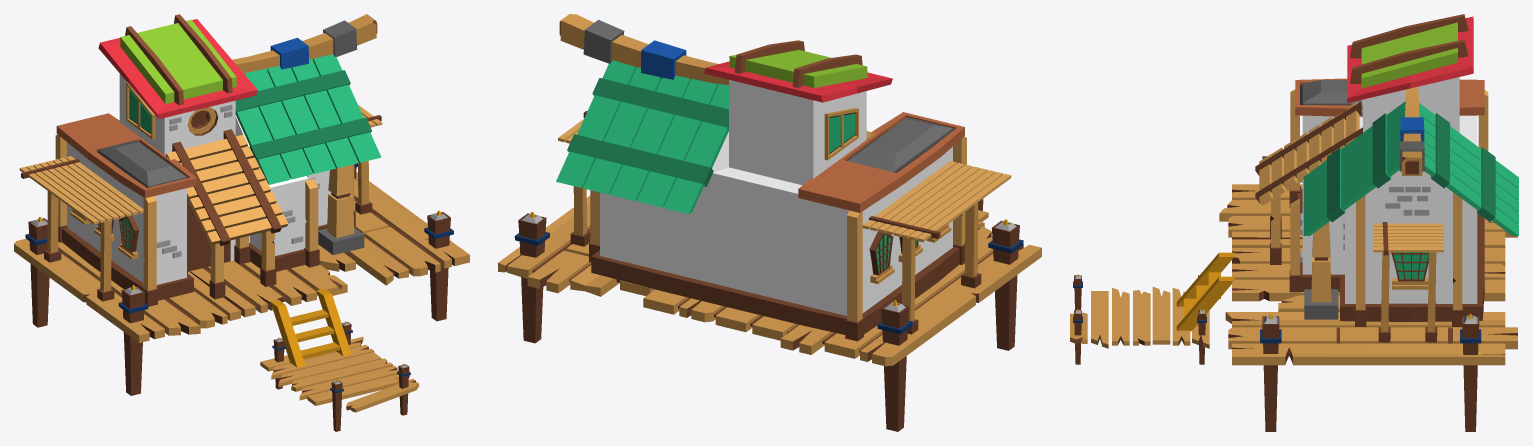
The model's file is House_01.glb.
The picture shows the model from 3 angles, left to right: view 1: azimuth 30°, elevation 25°; view 2: azimuth 150°, elevation 25°; view 3: azimuth 270°, elevation 25°; orthographic projection. The views are drawn at different scales.
Parts seen in each view (by area): view 1: Building 2; view 2: Building 2; view 3: Building 2.
Boxes of the visible parts, x1=… form: Building 2: x1=14, y1=14, x2=469, y2=431; Building 2: x1=498, y1=14, x2=1041, y2=431; Building 2: x1=1070, y1=14, x2=1518, y2=431.
Bounding box in the file's own units: 33.91 × 26.17 × 35.58.
1 material, 1 textured.
